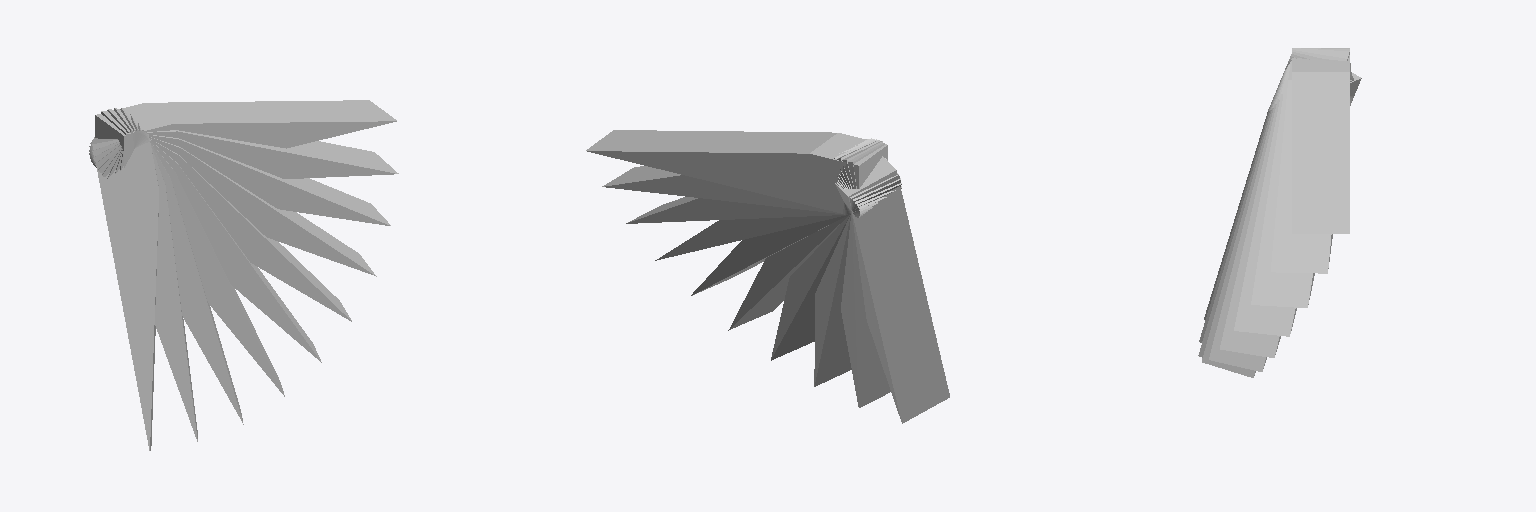
The model's file is cubemorf.obj.
The picture shows the model from 3 angles: view 1: azimuth 30°, elevation 25°; view 2: azimuth 150°, elevation 25°; view 3: azimuth 270°, elevation 25°; orthographic projection.
Bounding box in the file's own units: 11.89 × 11.49 × 5.69.